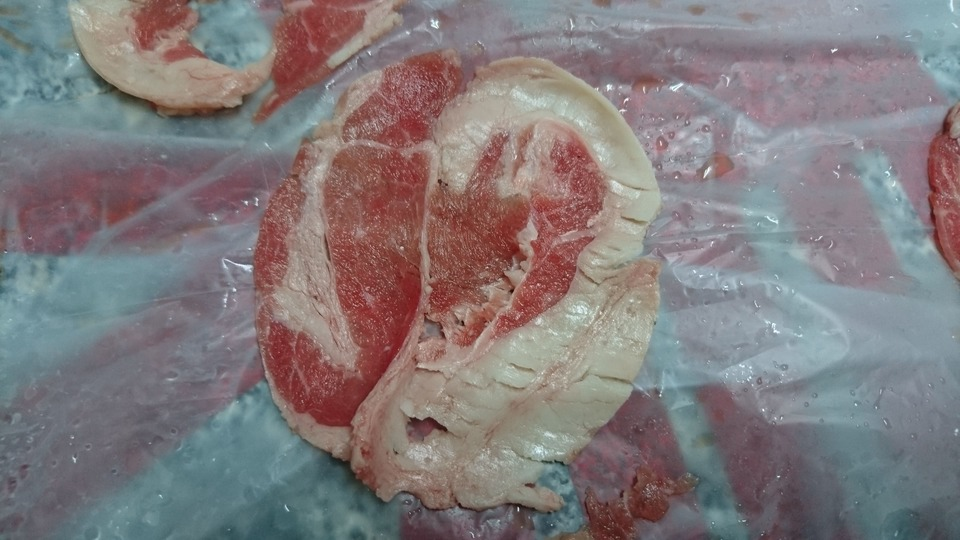restructured meat: (255, 51, 659, 509)
